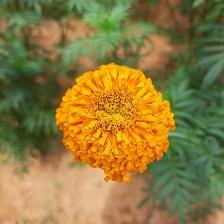marigold: (57, 64, 177, 188)
